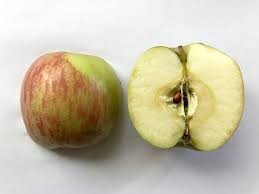apple: (19, 52, 120, 147)
damaged_apple: (129, 44, 241, 152)
